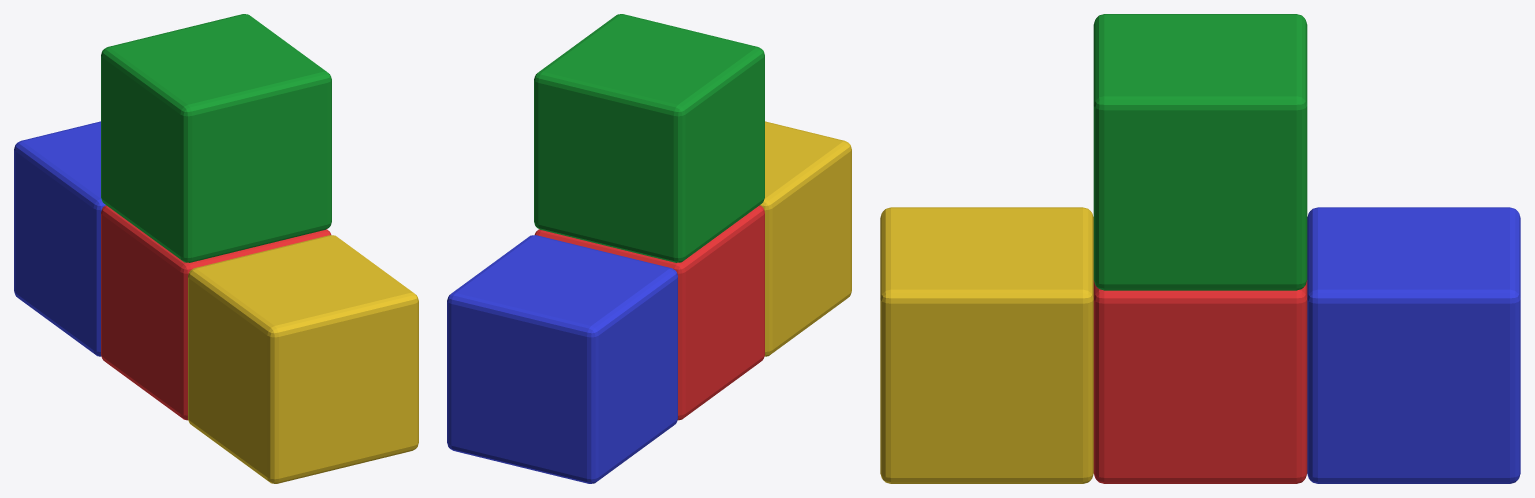
Rendered from TetrisAnimation.glb.
The picture shows the model from 3 angles, left to right: view 1: azimuth 30°, elevation 25°; view 2: azimuth 150°, elevation 25°; view 3: azimuth 270°, elevation 25°; orthographic projection. The views are drawn at different scales.
Visible parts, largest first — view 1: Yellow, Green, Blue, Red; view 2: Blue, Green, Yellow, Red; view 3: Green, Blue, Yellow, Red.
Boxes of the visible parts, x1,y1,x2,y2 form: Yellow: (188, 235, 418, 483); Green: (101, 14, 331, 262); Blue: (14, 121, 105, 356); Red: (101, 205, 331, 420); Blue: (447, 235, 677, 483); Green: (534, 14, 764, 262); Yellow: (760, 121, 851, 356); Red: (534, 205, 764, 420); Green: (1093, 14, 1307, 290); Blue: (1307, 207, 1520, 483); Yellow: (880, 207, 1093, 483); Red: (1093, 280, 1307, 483).
Bounding box in the file's own units: 0.5 × 1 × 1.5.
